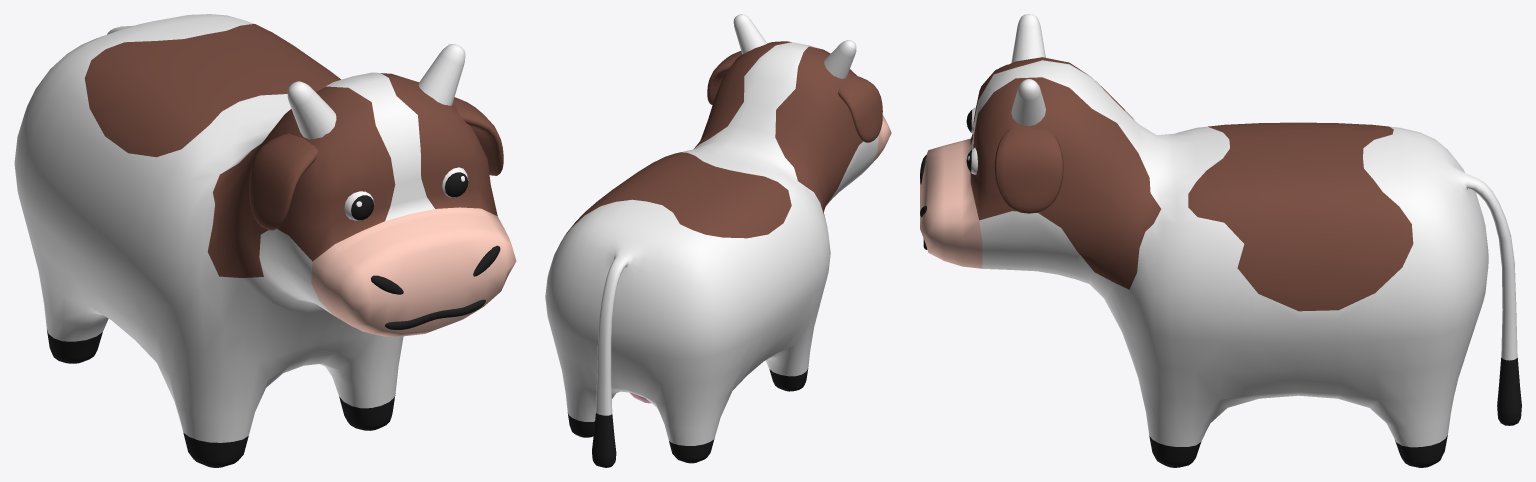
Rendered from Farm_5_Cow_2.glb.
3 renders of one model, left to right at view 1: azimuth 30°, elevation 25°; view 2: azimuth 150°, elevation 25°; view 3: azimuth 270°, elevation 25°, orthographic. The views are drawn at different scales.
Visible parts, largest first — view 1: Farm_5_Cow_2; view 2: Farm_5_Cow_2; view 3: Farm_5_Cow_2.
Boxes of the visible parts, x1,y1,x2,y2 form: Farm_5_Cow_2: [14, 14, 516, 467]; Farm_5_Cow_2: [545, 14, 891, 467]; Farm_5_Cow_2: [920, 14, 1521, 467].
Size of the model in its own units: 1.27 by 1.87 by 2.66.
Materials: 1 (1 with a texture image).
